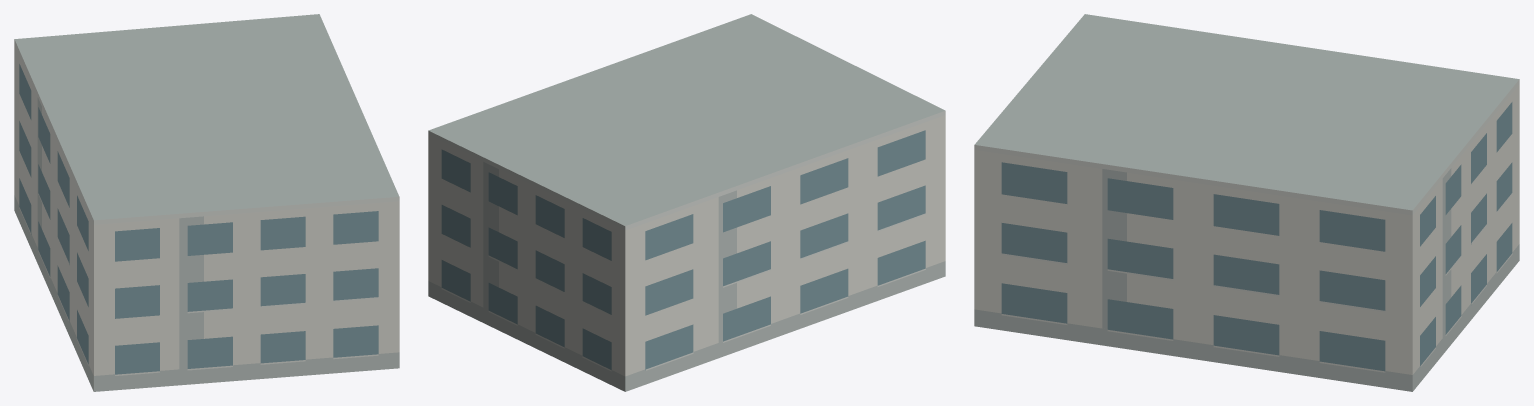
The model's file is survey-upis-32883236.glb.
The picture shows the model from 3 angles, left to right: view 1: azimuth 30°, elevation 25°; view 2: azimuth 150°, elevation 25°; view 3: azimuth 270°, elevation 25°; orthographic projection. The views are drawn at different scales.
Parts seen in each view (by area): view 1: survey-upis-32883236.tmp; view 2: survey-upis-32883236.tmp; view 3: survey-upis-32883236.tmp.
Boxes of the visible parts, left/top/right/bottom form: survey-upis-32883236.tmp: left=14, top=14, right=399, bottom=391; survey-upis-32883236.tmp: left=428, top=14, right=945, bottom=391; survey-upis-32883236.tmp: left=974, top=14, right=1519, bottom=391.
Size of the model in its own units: 21.26 by 9.15 by 24.93.
